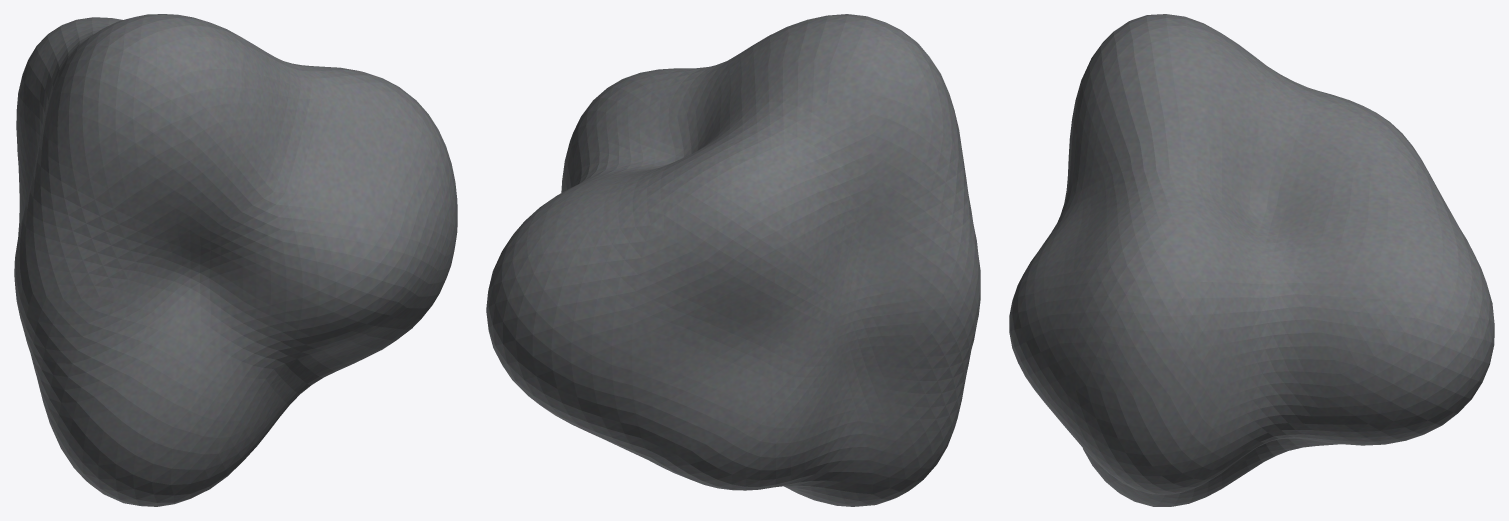
The model's file is sample_sculpture.glb.
The picture shows the model from 3 angles, left to right: view 1: azimuth 30°, elevation 25°; view 2: azimuth 150°, elevation 25°; view 3: azimuth 270°, elevation 25°; orthographic projection.
Visible parts, largest first — view 1: geometry_0; view 2: geometry_0; view 3: geometry_0.
Boxes of the visible parts, x1=… form: geometry_0: x1=14, y1=14, x2=457, y2=506; geometry_0: x1=486, y1=14, x2=980, y2=506; geometry_0: x1=1009, y1=14, x2=1494, y2=506.
Size of the model in its own units: 2.22 by 2.44 by 2.28.
Materials: 1 (1 with a texture image).
